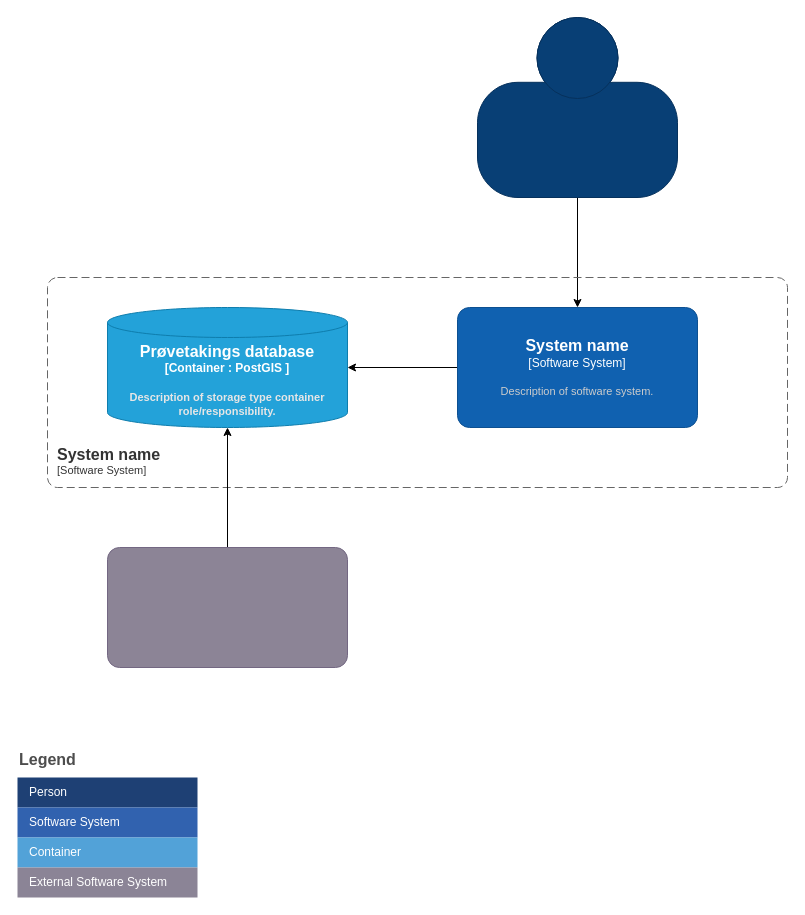
This 805x915 diagram has some shape labels left out. Here are the shapes that lost their labels. From the top down, the centre of each, then its label:
At (x=577, y=107): "Person name [Person] Description of person.".
At (x=227, y=607): "External system name [Software System] Description of external software system.".
